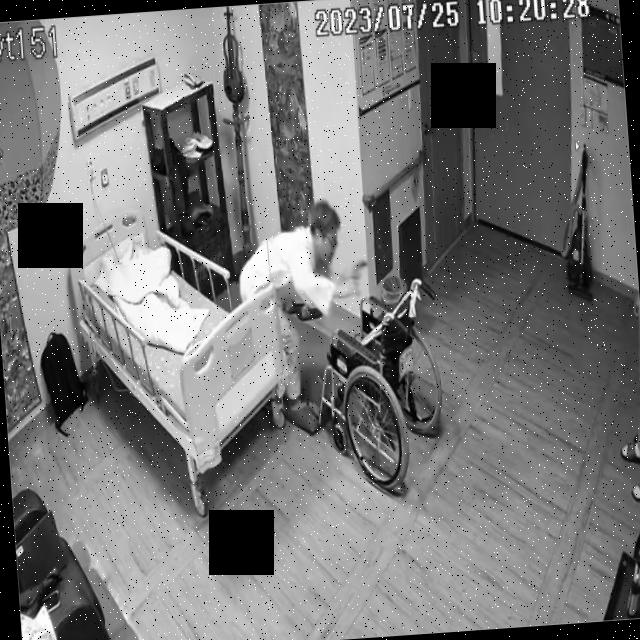danger: (232, 195, 378, 429)
patient: (232, 197, 378, 428)
